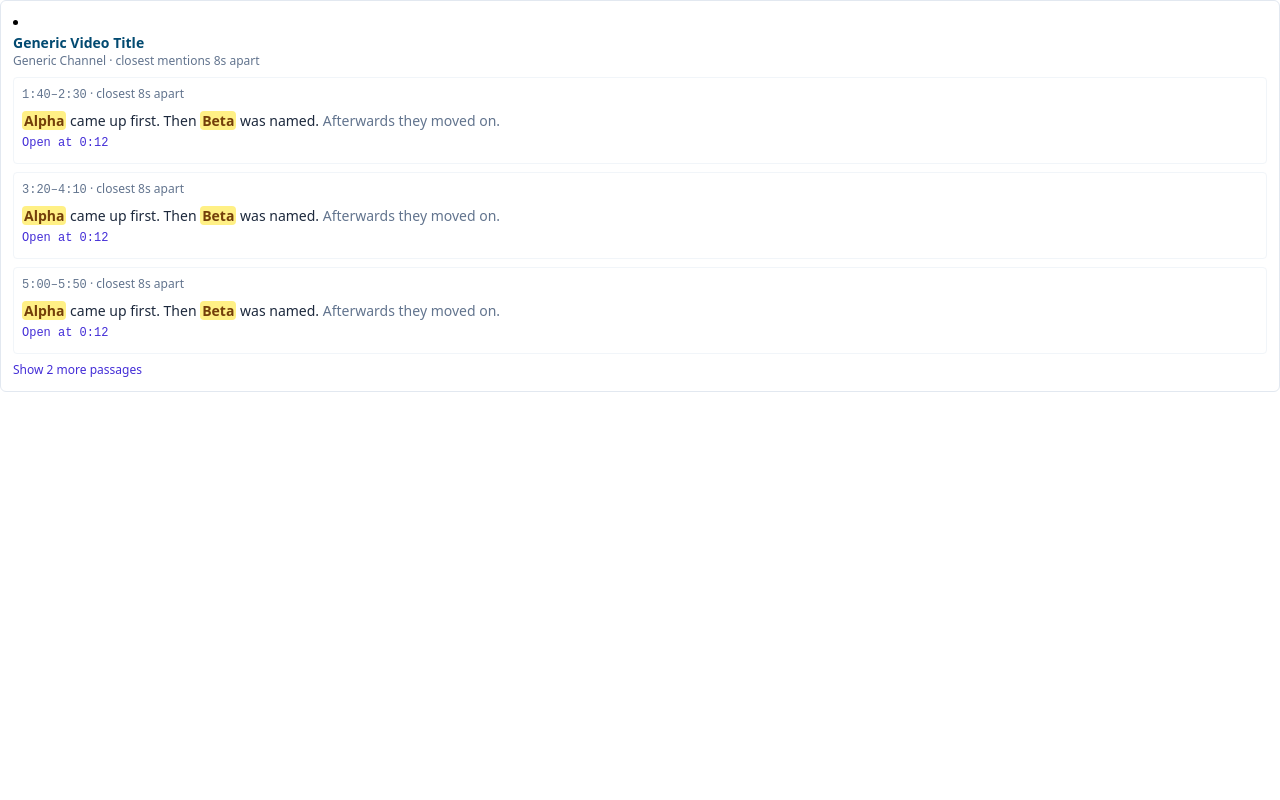
Test: EvidenceItem › folding after three passages (FR-014a) › reveals the rest in place and focuses the first revealed passage
The width and height of the screenshot is (1280, 800).
Step 1. Click the button "Show 2 more passages" → (77, 370), box x1=13 y1=362 x2=142 y2=378
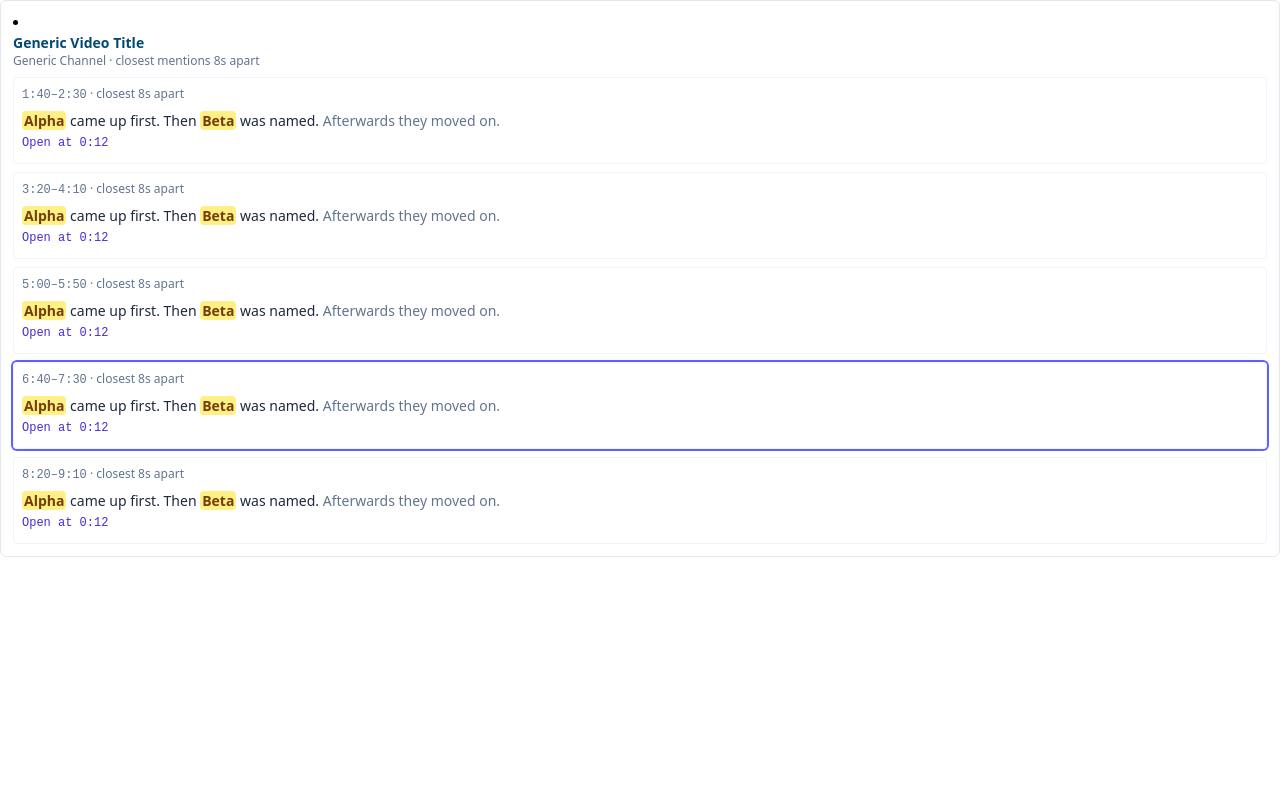
Now the number of list items with test id "evidence-passage" is 5, box x1=13 y1=77 x2=1267 y2=164; x1=13 y1=172 x2=1267 y2=259; x1=13 y1=267 x2=1267 y2=354; x1=13 y1=362 x2=1267 y2=449; x1=13 y1=457 x2=1267 y2=544
Now the button "Show 2 more passages" is gone
